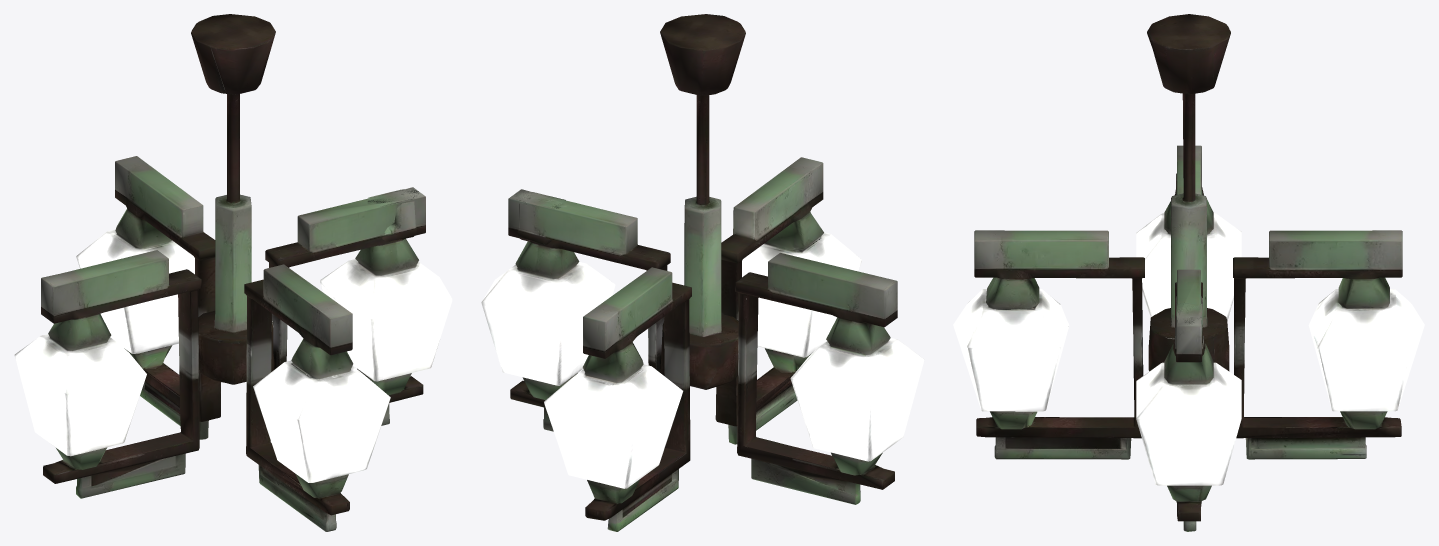
File: chandelier.glb
3 renders of one model, left to right at view 1: azimuth 30°, elevation 25°; view 2: azimuth 150°, elevation 25°; view 3: azimuth 270°, elevation 25°, orthographic.
Size of the model in its own units: 1.91 by 1.9 by 1.91.
Materials: 1 (1 with a texture image).
